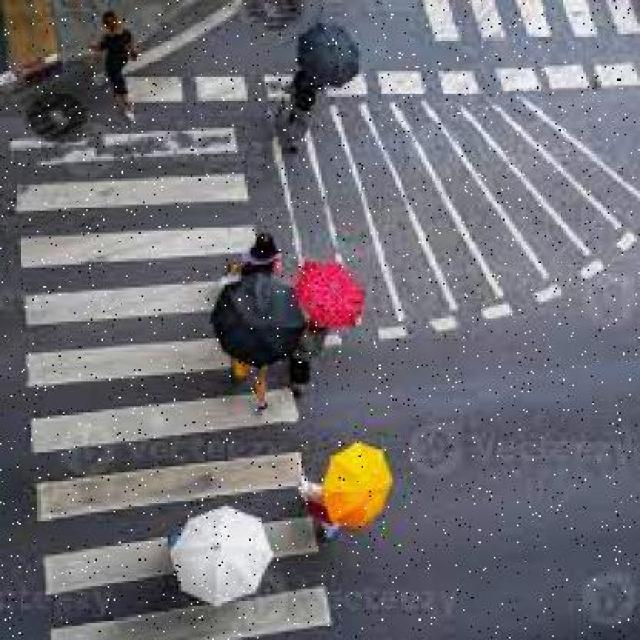crosswalk: (3, 126, 332, 640), (423, 0, 640, 46)
